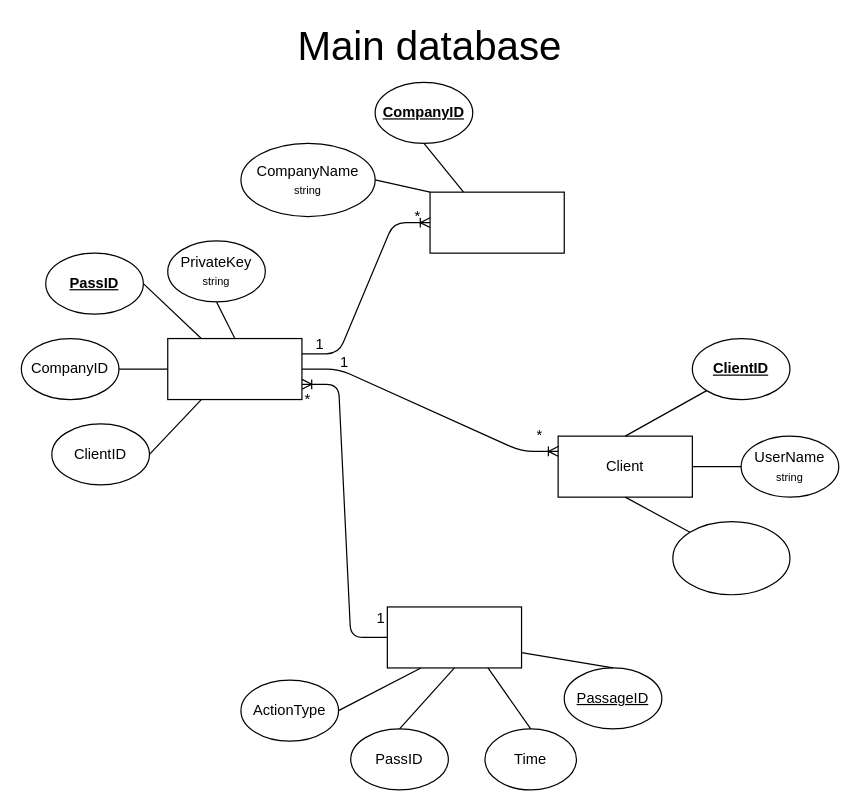
Image size: 860x811. Some labels were removed from this diagram. Each missing label, with the box of its shape:
Company: (429, 191, 564, 253)
Pass: (167, 337, 302, 400)
Passage: (386, 606, 522, 668)
Password string: (672, 520, 790, 595)
